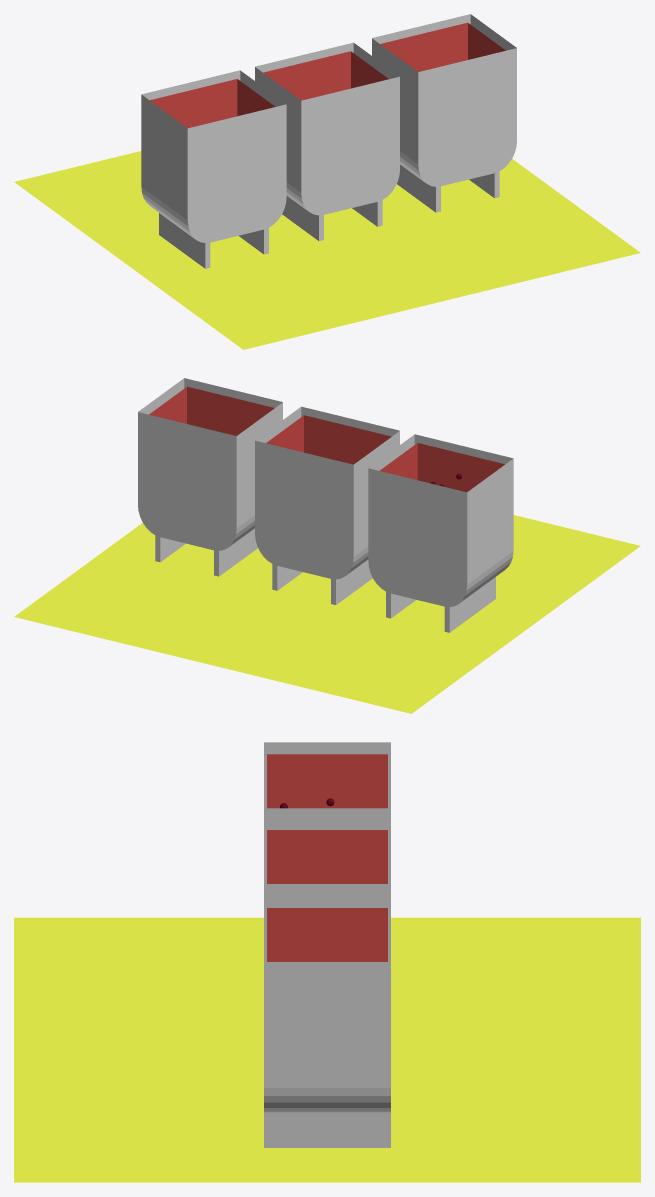
File: Decantazion.fbx
The picture shows the model from 3 angles, top to bottom: view 1: azimuth 30°, elevation 25°; view 2: azimuth 150°, elevation 25°; view 3: azimuth 270°, elevation 25°; orthographic projection. The views are drawn at different scales.
Parts seen in each view (by area): view 1: Plane, Cube.004, Cube.001; view 2: Plane, Cube.004, Cube.001; view 3: Plane, Cube.004, Cube.001.
Boxes of the visible parts, x1,y1,x2,y2 form: Plane: (14, 151, 640, 349); Cube.004: (141, 14, 516, 268); Cube.001: (150, 22, 505, 128); Plane: (14, 515, 640, 713); Cube.004: (138, 378, 513, 632); Cube.001: (149, 386, 504, 492); Plane: (14, 917, 640, 1182); Cube.004: (264, 742, 390, 1147); Cube.001: (267, 754, 387, 961).
Size of the model in its own units: 3877 by 1359 by 3877.
